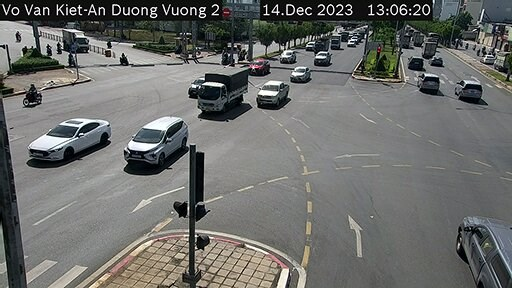car: (447, 214, 509, 284), (26, 112, 108, 161), (129, 107, 185, 168), (257, 80, 285, 115), (456, 76, 483, 99), (290, 65, 312, 87), (419, 74, 440, 94), (314, 53, 333, 67)
truck: (199, 66, 250, 112), (423, 41, 440, 57)
